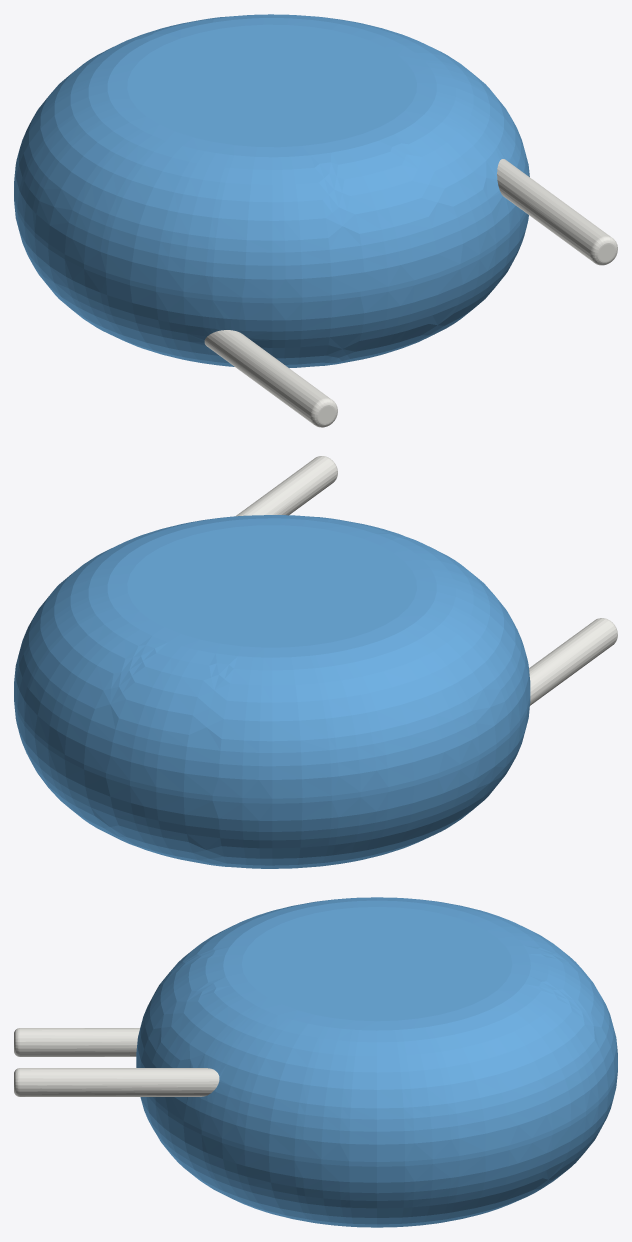
Rendered from RV_Disc_D12mm_W5.4mm_P7.5mm.glb.
3 views of the same model, one above another, from view 1: azimuth 30°, elevation 25°; view 2: azimuth 150°, elevation 25°; view 3: azimuth 270°, elevation 25° (orthographic). The views are drawn at different scales.
Parts seen in each view (by area): view 1: Shape_IndexedFaceSet.001, Shape_IndexedFaceSet.003, Shape_IndexedFaceSet.002, Shape_IndexedFaceSet.006, Shape_IndexedFaceSet.004, Shape_IndexedFaceSet; view 2: Shape_IndexedFaceSet.001, Shape_IndexedFaceSet.002, Shape_IndexedFaceSet.003, Shape_IndexedFaceSet.006, Shape_IndexedFaceSet, Shape_IndexedFaceSet.004; view 3: Shape_IndexedFaceSet.001, Shape_IndexedFaceSet.002, Shape_IndexedFaceSet.003, Shape_IndexedFaceSet.004, Shape_IndexedFaceSet.006, Shape_IndexedFaceSet.
Part boxes in pixels (left/top/right/bottom): Shape_IndexedFaceSet.001: left=14, top=14, right=529, bottom=298; Shape_IndexedFaceSet.003: left=127, top=24, right=416, bottom=147; Shape_IndexedFaceSet.002: left=14, top=201, right=528, bottom=368; Shape_IndexedFaceSet.006: left=204, top=330, right=330, bottom=423; Shape_IndexedFaceSet.004: left=497, top=159, right=610, bottom=261; Shape_IndexedFaceSet: left=14, top=196, right=526, bottom=303; Shape_IndexedFaceSet.001: left=14, top=515, right=530, bottom=798; Shape_IndexedFaceSet.002: left=14, top=701, right=530, bottom=868; Shape_IndexedFaceSet.003: left=127, top=525, right=416, bottom=647; Shape_IndexedFaceSet.006: left=529, top=618, right=616, bottom=705; Shape_IndexedFaceSet: left=14, top=696, right=530, bottom=803; Shape_IndexedFaceSet.004: left=236, top=456, right=336, bottom=516; Shape_IndexedFaceSet.001: left=136, top=897, right=617, bottom=1161; Shape_IndexedFaceSet.002: left=140, top=1071, right=617, bottom=1227; Shape_IndexedFaceSet.003: left=242, top=907, right=512, bottom=1021; Shape_IndexedFaceSet.004: left=19, top=1068, right=219, bottom=1096; Shape_IndexedFaceSet.006: left=19, top=1028, right=139, bottom=1056; Shape_IndexedFaceSet: left=136, top=1067, right=617, bottom=1166.
Bounding box in the file's own units: 4.72 × 2.13 × 5.91.
